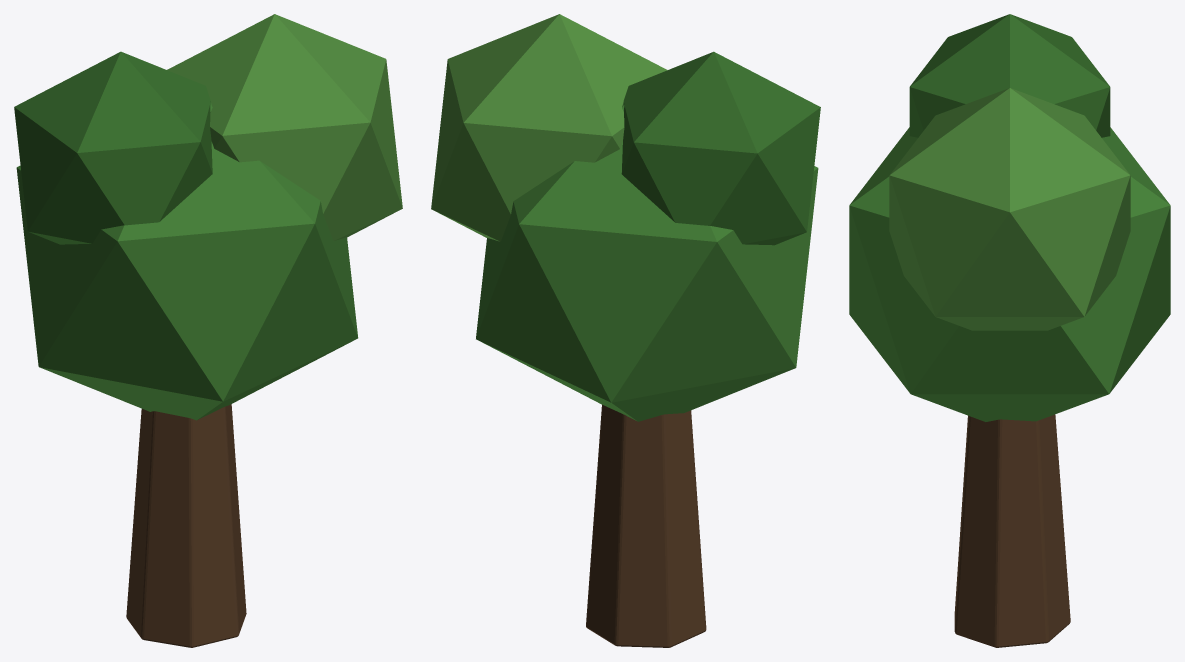
Rendered from tree.glb.
3 views of the same model, side by side, from view 1: azimuth 30°, elevation 25°; view 2: azimuth 150°, elevation 25°; view 3: azimuth 270°, elevation 25° (orthographic).
Visible parts, largest first — view 1: Icosphere, Icosphere.001, Icosphere.002, Cone; view 2: Icosphere, Icosphere.001, Icosphere.002, Cone; view 3: Icosphere.001, Icosphere, Cone, Icosphere.002.
Boxes of the visible parts, x1,y1,x2,y2 form: Icosphere: (16, 102, 358, 420); Icosphere.001: (167, 14, 402, 240); Icosphere.002: (14, 51, 212, 244); Cone: (126, 404, 246, 647); Icosphere: (476, 103, 818, 421); Icosphere.001: (431, 14, 667, 241); Icosphere.002: (621, 51, 820, 245); Cone: (586, 404, 706, 647); Icosphere.001: (889, 88, 1130, 330); Icosphere: (849, 127, 1170, 421); Cone: (954, 414, 1070, 647); Icosphere.002: (909, 14, 1110, 137).
Bounding box in the file's own units: 1.72 × 2.7 × 1.36.
